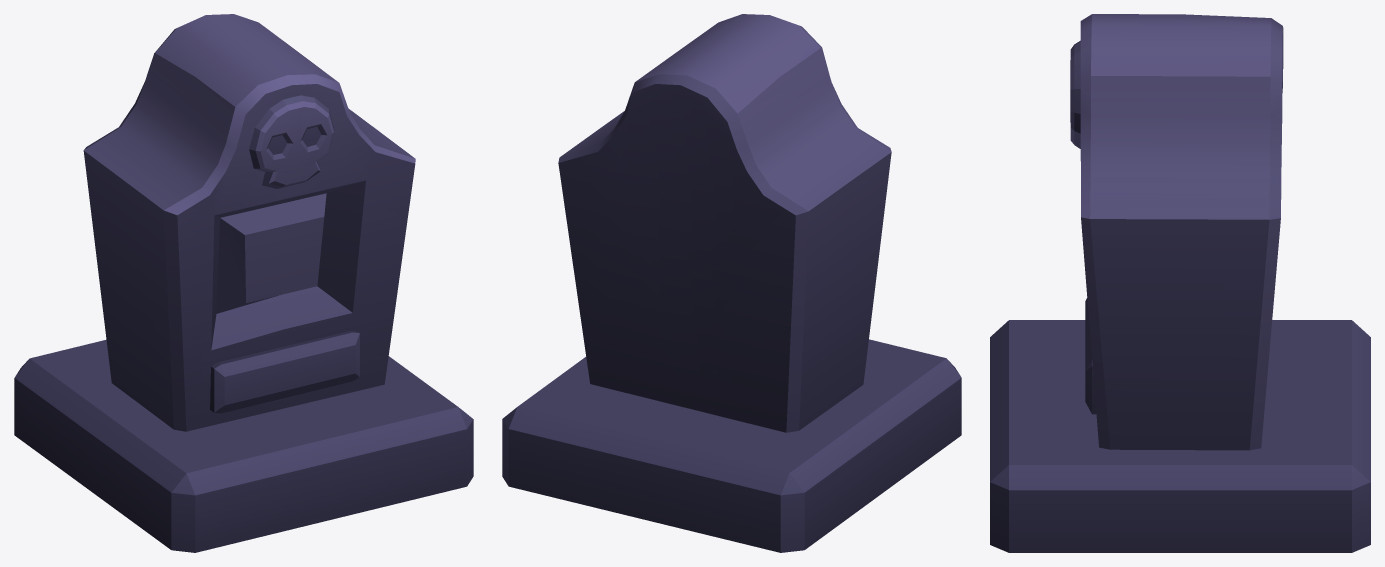
The model's file is tomb_3.glb.
3 views of the same model, side by side, from view 1: azimuth 30°, elevation 25°; view 2: azimuth 150°, elevation 25°; view 3: azimuth 270°, elevation 25° (orthographic). The views are drawn at different scales.
Parts seen in each view (by area): view 1: tomb_3; view 2: tomb_3; view 3: tomb_3.
Part boxes in pixels (x1=…): tomb_3: x1=14, y1=14, x2=473, y2=552; tomb_3: x1=502, y1=14, x2=961, y2=552; tomb_3: x1=990, y1=14, x2=1370, y2=552.
Size of the model in its own units: 2 by 2.59 by 2.
1 material, 1 textured.
